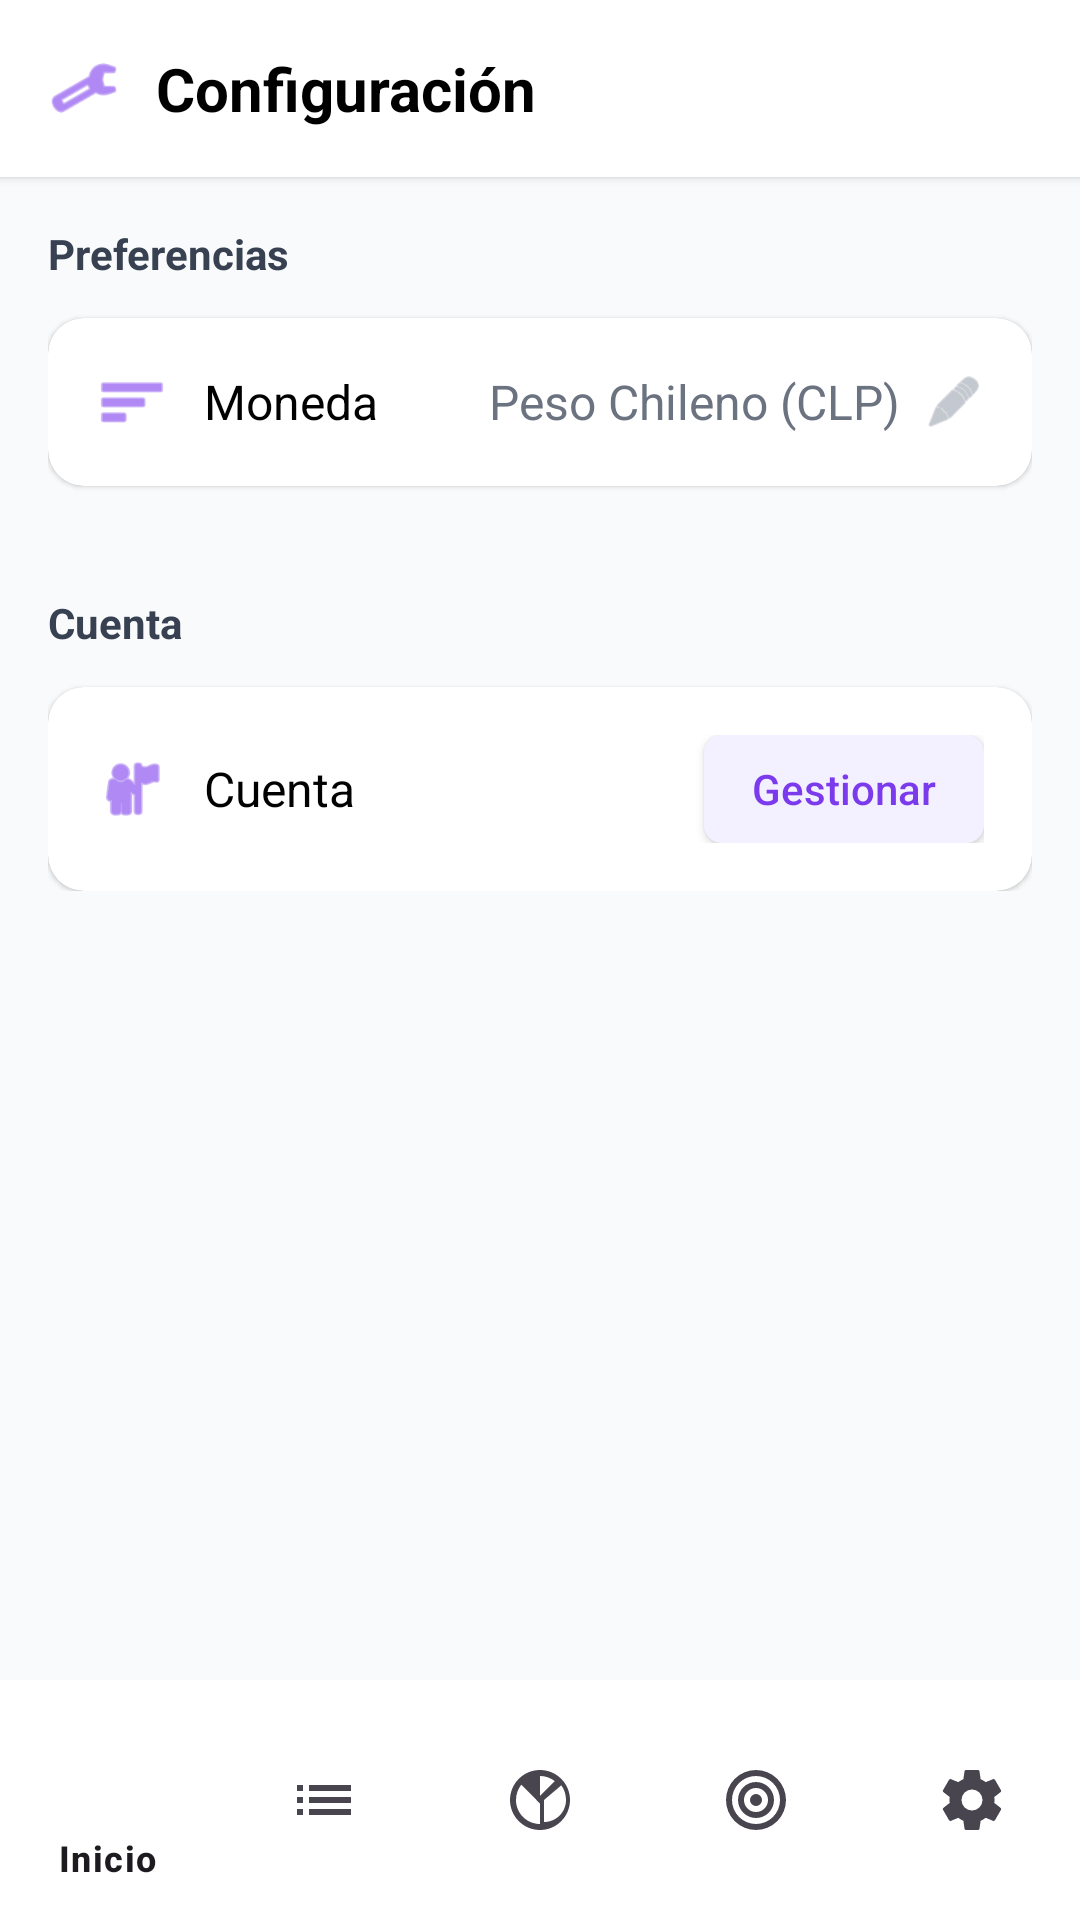

Named icons in this screenshot (1080 x 1920) and their centers, (x,y):
edit: (954,401)
sort by size: (132,402)
